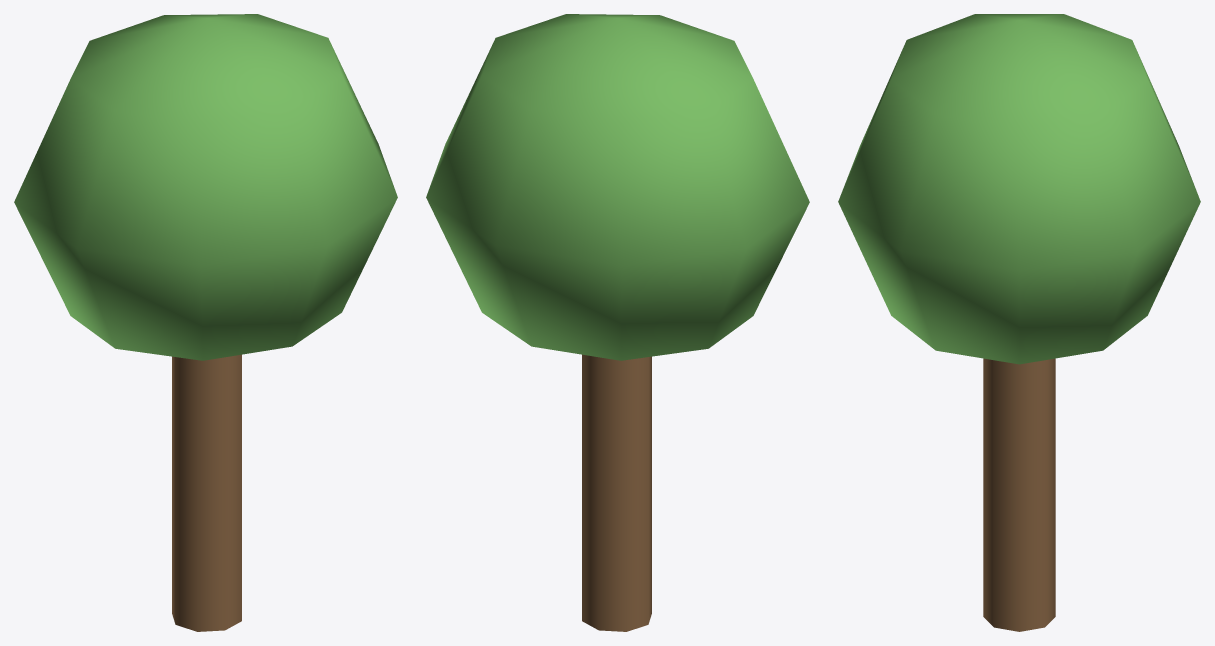
Rendered from tree_deciduous_01.glb.
The picture shows the model from 3 angles, left to right: view 1: azimuth 30°, elevation 25°; view 2: azimuth 150°, elevation 25°; view 3: azimuth 270°, elevation 25°; orthographic projection.
Size of the model in its own units: 0.5819 by 1 by 0.5515.
